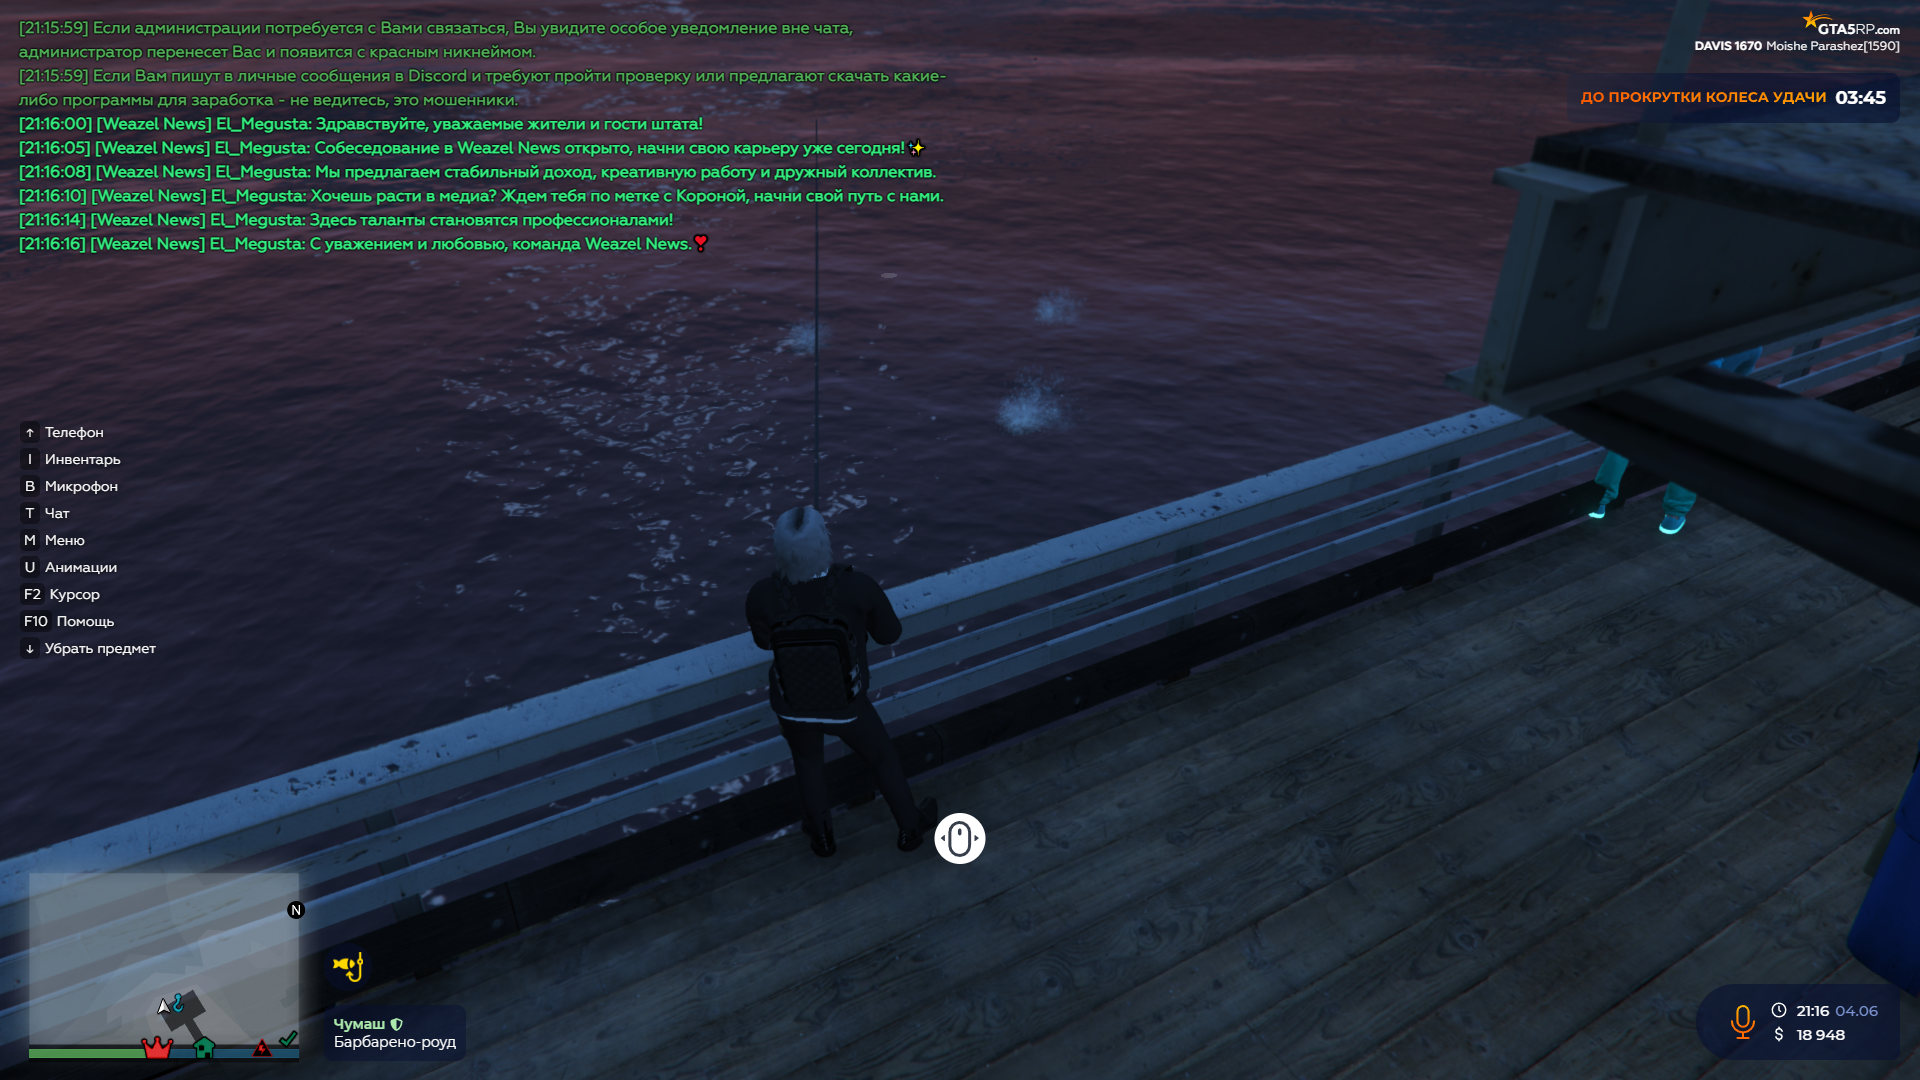circle: (881, 272, 898, 280)
